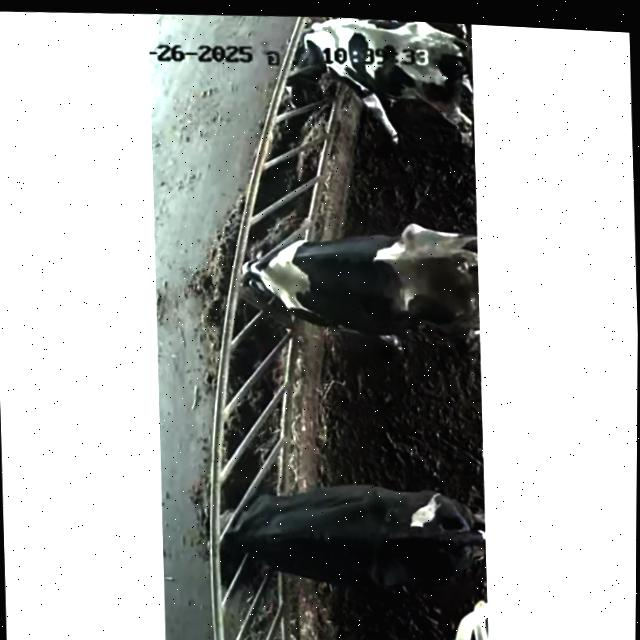eat: (181, 218, 369, 338), (162, 468, 318, 596), (240, 12, 393, 108)
